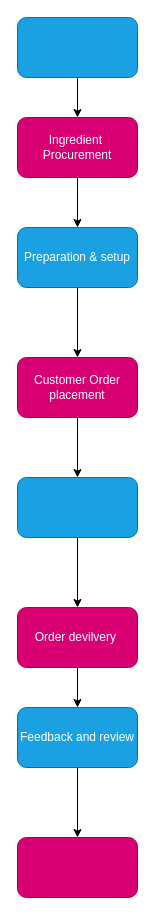
Some shapes in this 155 by 915 pixel diagram are drawn without their labels. Each missing label, with the centre of its shape:
Cleaning and closing: [77,867]
Idea & Menu: [77,47]
Order Processing: [77,507]
